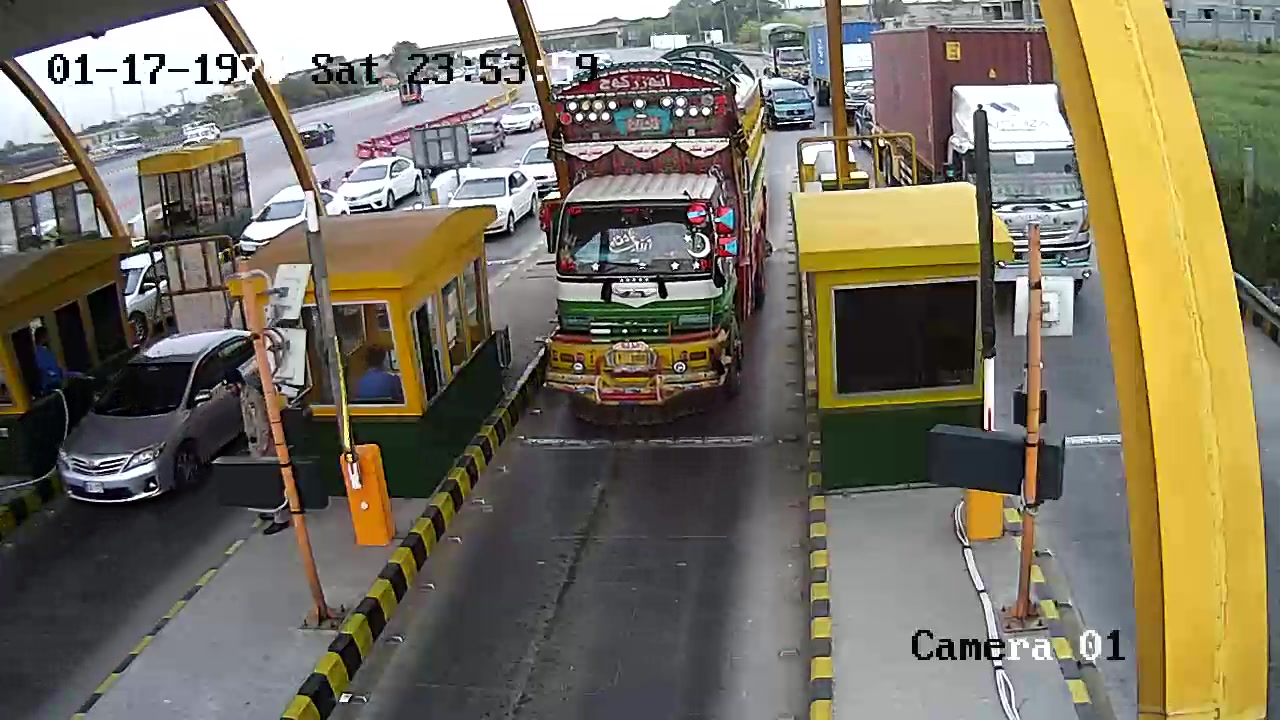F5: (522, 46, 785, 428)
